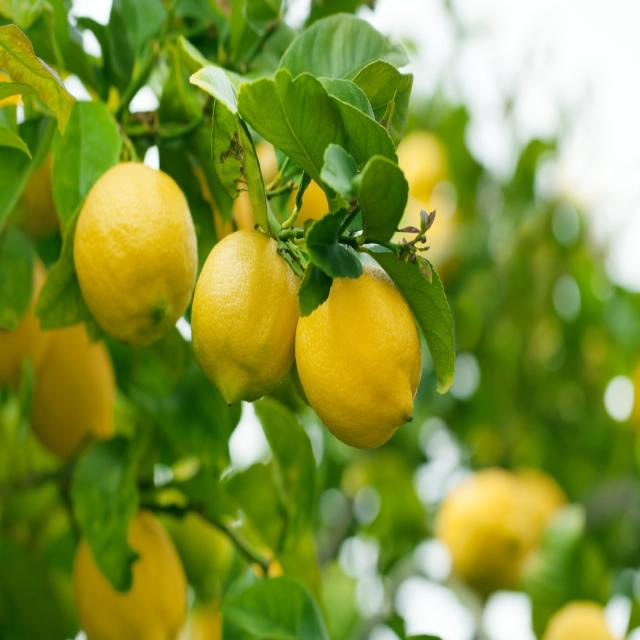lemon: (75, 156, 201, 348), (297, 263, 422, 446), (190, 230, 302, 406)
